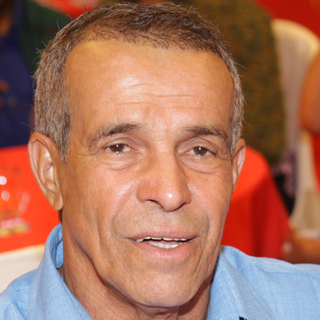eye: (171, 138, 222, 165), (97, 136, 145, 161)
